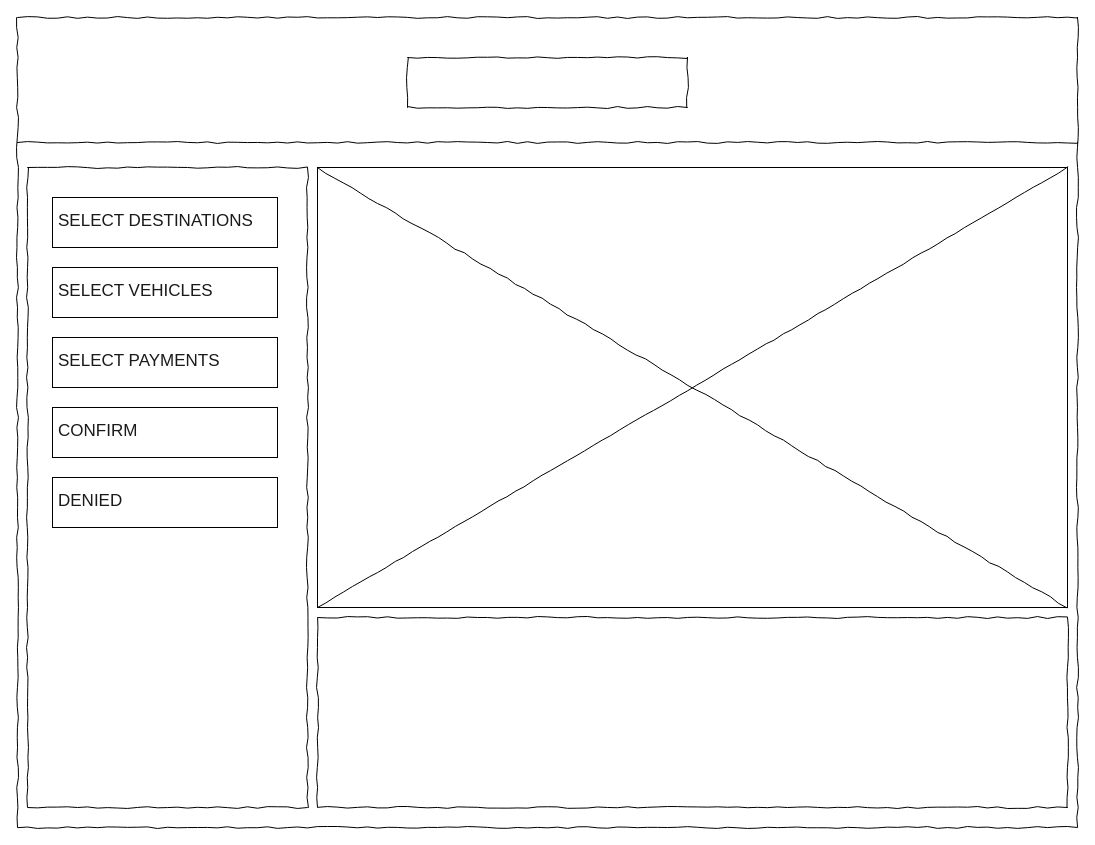
This 1095x845 diagram has some shape labels left out. Each missing label, with the box of its shape:
ANNOUNMENTS(Thong bao): (316, 616, 1068, 808)
TICKET VENDORs: (406, 56, 688, 108)
